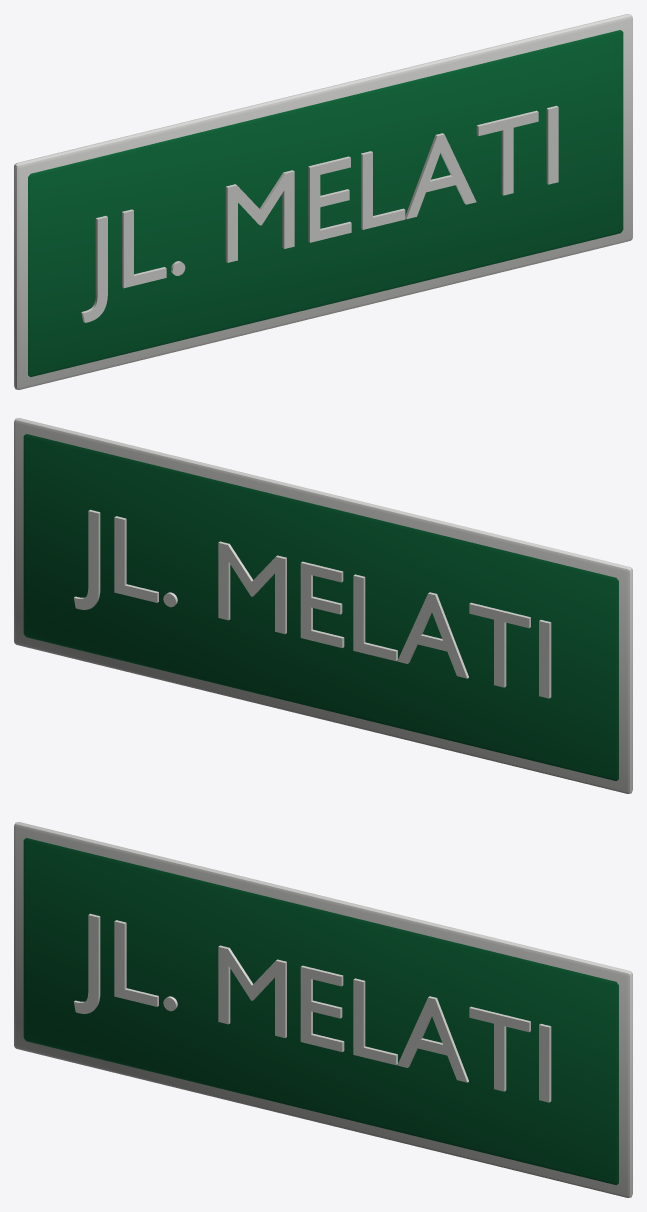
File: StreetName_melati.fbx
3 renders of one model, top to bottom at view 1: azimuth 30°, elevation 25°; view 2: azimuth 150°, elevation 25°; view 3: azimuth 330°, elevation 25°, orthographic.
Parts seen in each view (by area): view 1: StreetName_melati_Mesh; view 2: StreetName_melati_Mesh; view 3: StreetName_melati_Mesh.
Part boxes in pixels (bbox=[...]): StreetName_melati_Mesh: bbox=[14, 14, 632, 389]; StreetName_melati_Mesh: bbox=[14, 418, 632, 793]; StreetName_melati_Mesh: bbox=[14, 822, 632, 1197].
Bounding box in the file's own units: 0.9976 × 0.35 × 0.026.
